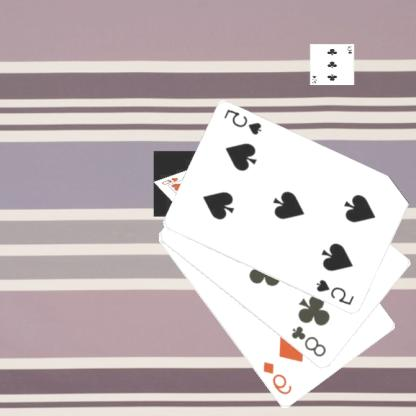5S: (314, 277, 358, 307), (223, 107, 265, 136)
6D: (261, 359, 295, 397)
8C: (290, 323, 330, 359)
